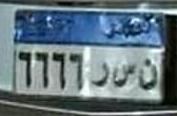6: (69, 52, 85, 92), (51, 50, 67, 90), (17, 47, 33, 87), (34, 50, 49, 89)
noon: (137, 57, 159, 91)
raa: (91, 60, 110, 90)
seen: (112, 61, 136, 92)
